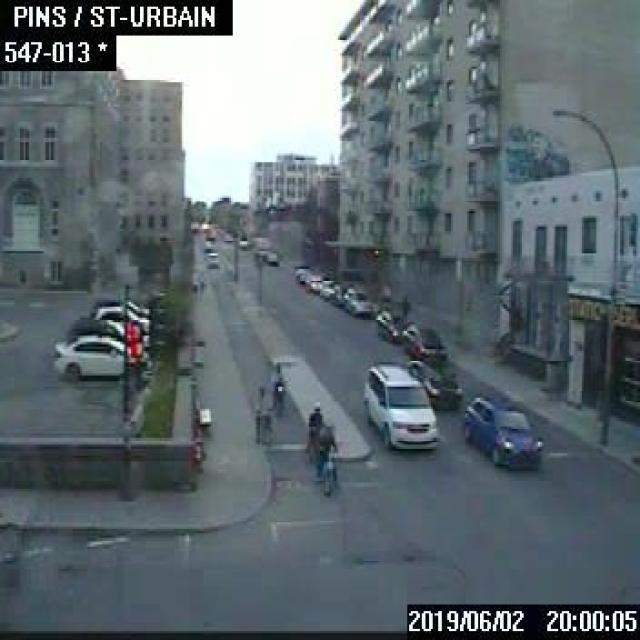cyclist: (315, 425, 338, 497), (304, 399, 325, 464), (255, 382, 275, 445), (271, 362, 285, 404)
vehicle: (362, 361, 438, 451), (462, 391, 542, 466), (52, 333, 150, 380), (65, 314, 149, 351), (406, 357, 462, 408), (400, 323, 446, 360), (93, 304, 149, 331), (89, 295, 149, 316), (375, 308, 409, 339), (344, 292, 370, 314), (332, 283, 354, 305), (293, 265, 312, 283), (318, 277, 335, 297), (304, 272, 321, 290), (205, 250, 218, 266), (263, 250, 277, 264), (253, 246, 267, 257), (236, 237, 248, 247)
